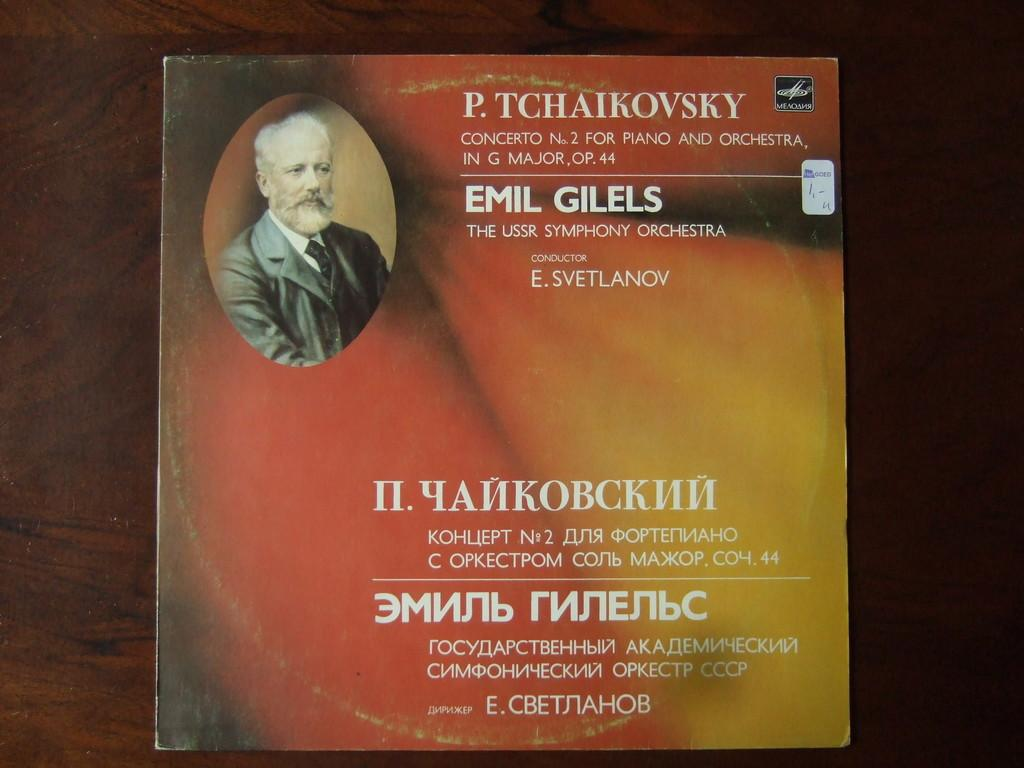book: (218, 124, 826, 724)
